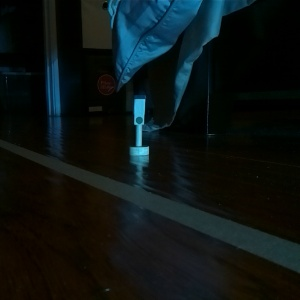traffic light green: (126, 92, 151, 158)
